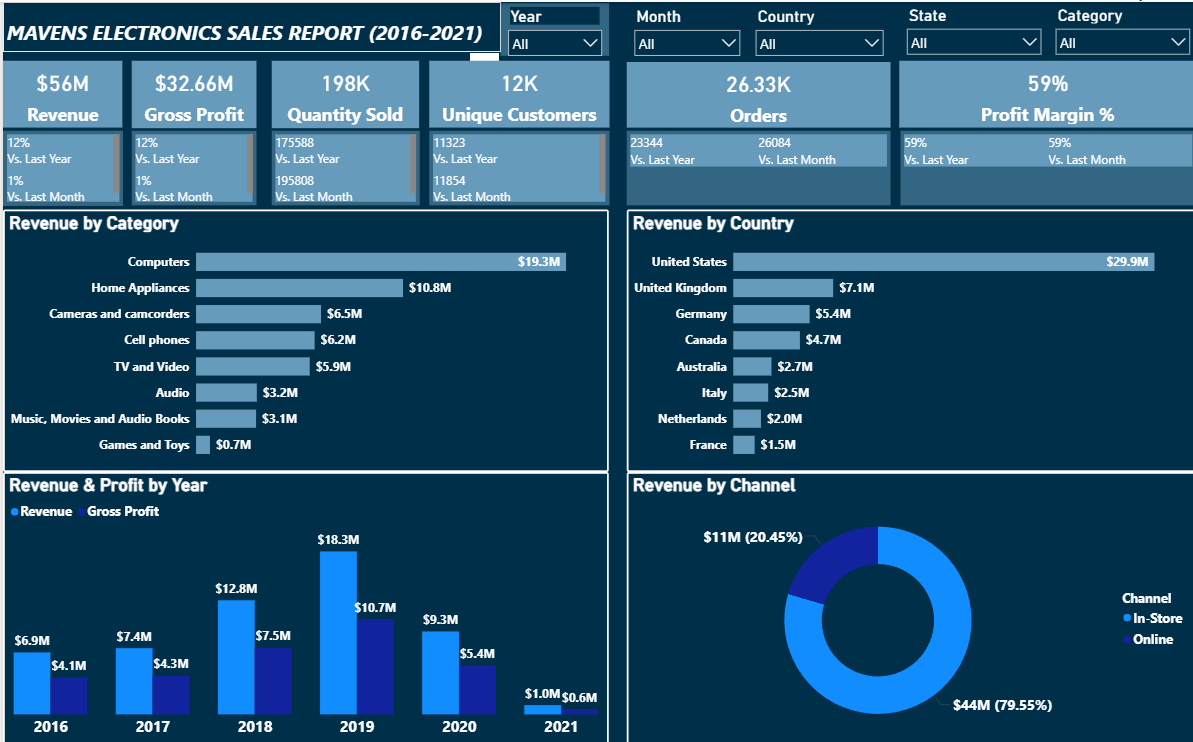

The page's visual inventory and layout, read from the dashboard file:
{"tool":"powerbi","page":{"name":"EXECUTIVE OVERVIEW","canvas":[1600,1000],"ordinal":0},"visuals":[{"type":"textbox","box":[0,0,666.9,67],"z":0},{"type":"card","fields":{"Values":["Sales.Revenue"]},"box":[0,79.3,160.3,89.7],"z":1000},{"type":"card","fields":{"Values":["Sales.Profit"]},"box":[172.6,78.8,167.6,90.5],"z":2000},{"type":"card","fields":{"Values":["Sales.Orders"]},"box":[836.2,81,353.4,87.9],"z":3000},{"type":"card","fields":{"Values":["Sales.Profit Margin %"]},"box":[1201.7,79.3,398.3,89.7],"z":4000},{"type":"card","fields":{"Values":["Sales.Quantity Sold"]},"box":[360.3,78.8,197.7,90.5],"z":5000},{"type":"clusteredBarChart","fields":{"Y":["Sales.Revenue"],"Category":["Products.Category"]},"box":[0,277.6,812.1,351.7],"z":6000},{"type":"clusteredBarChart","fields":{"Category":["Customers.Country"],"Y":["Sales.Revenue"]},"box":[836.2,277.6,763.8,351.7],"z":7000},{"type":"slicer","fields":{"Values":["Products.Category"]},"box":[1400,0,200,74.1],"z":8000},{"type":"slicer","fields":{"Values":["Stores.Country"]},"box":[998.3,1.7,191.4,70.7],"z":9000},{"type":"slicer","fields":{"Values":["Stores.State"]},"box":[1201.7,0,200,74.1],"z":10000},{"type":"donutChart","fields":{"Y":["Sales.Revenue"],"Category":["Stores.Channel"]},"box":[836.2,629.3,763.8,370.7],"z":11000},{"type":"clusteredColumnChart","title":"Revenue & Profit by Year","fields":{"Y":["Sales.Revenue","Sales.Profit"],"Category":["Calendar_Tbl.Date Hierarchy.Year"]},"box":[0,629.3,812.1,370.7],"z":12000},{"type":"card","fields":{"Values":["Customers.Unique Customers"]},"box":[570.7,79.3,241.4,89.7],"z":13000},{"type":"slicer","fields":{"Values":["Calendar_Tbl.Year"]},"box":[666.9,1.7,145.8,70.4],"z":14000},{"type":"multiRowCard","fields":{"Values":["Sales.Revenue YoY %","Sales.Revenue MoM %"]},"box":[0,172.6,160.9,100.5],"z":15000},{"type":"multiRowCard","fields":{"Values":["Sales.Gross Profit YoY %","Sales.Gross Profit MoM %"]},"box":[172.4,172.4,167.2,100],"z":16000},{"type":"multiRowCard","fields":{"Values":["Sales.Quantity Sold LY","Sales.Quantity Sold LM"]},"box":[360.3,172.4,198.3,100],"z":17000},{"type":"multiRowCard","fields":{"Values":["Customers.Unique Customers LY","Customers.Unique Customers LM"]},"box":[570.7,172.4,241.4,100],"z":18000},{"type":"multiRowCard","fields":{"Values":["Sales.Orders LY","Sales.Orders LM"]},"box":[836.2,172.4,353.4,100],"z":19000},{"type":"multiRowCard","fields":{"Values":["Sales.Profit Margin % LY","Sales.Profit Margin % LM"]},"box":[1203.4,172.4,396.6,100],"z":20000},{"type":"slicer","fields":{"Values":["Calendar_Tbl.Month Name"]},"box":[836.2,1.7,162.1,70.7],"z":21000}]}

Visuals, with their boxes in screenshot pixels (x1, y1, x2, y2), scaled from the page's 1600x1000 canvas onto the 1193x742 screenshot:
textbox: detection(0, 0, 497, 50)
card - Sales.Revenue: detection(0, 59, 120, 125)
card - Sales.Profit: detection(129, 58, 254, 126)
card - Sales.Orders: detection(623, 60, 887, 125)
card - Sales.Profit Margin %: detection(896, 59, 1192, 125)
card - Sales.Quantity Sold: detection(269, 58, 416, 126)
clusteredBarChart - Sales.Revenue x Products.Category: detection(0, 206, 606, 467)
clusteredBarChart - Customers.Country x Sales.Revenue: detection(623, 206, 1192, 467)
slicer - Products.Category: detection(1044, 0, 1192, 55)
slicer - Stores.Country: detection(744, 1, 887, 54)
slicer - Stores.State: detection(896, 0, 1045, 55)
donutChart - Sales.Revenue x Stores.Channel: detection(623, 467, 1192, 741)
"Revenue & Profit by Year" clusteredColumnChart: detection(0, 467, 606, 741)
card - Customers.Unique Customers: detection(426, 59, 606, 125)
slicer - Calendar_Tbl.Year: detection(497, 1, 606, 53)
multiRowCard - Sales.Revenue YoY % x Sales.Revenue MoM %: detection(0, 128, 120, 203)
multiRowCard - Sales.Gross Profit YoY % x Sales.Gross Profit MoM %: detection(129, 128, 253, 202)
multiRowCard - Sales.Quantity Sold LY x Sales.Quantity Sold LM: detection(269, 128, 417, 202)
multiRowCard - Customers.Unique Customers LY x Customers.Unique Customers LM: detection(426, 128, 606, 202)
multiRowCard - Sales.Orders LY x Sales.Orders LM: detection(623, 128, 887, 202)
multiRowCard - Sales.Profit Margin % LY x Sales.Profit Margin % LM: detection(897, 128, 1192, 202)
slicer - Calendar_Tbl.Month Name: detection(623, 1, 744, 54)
